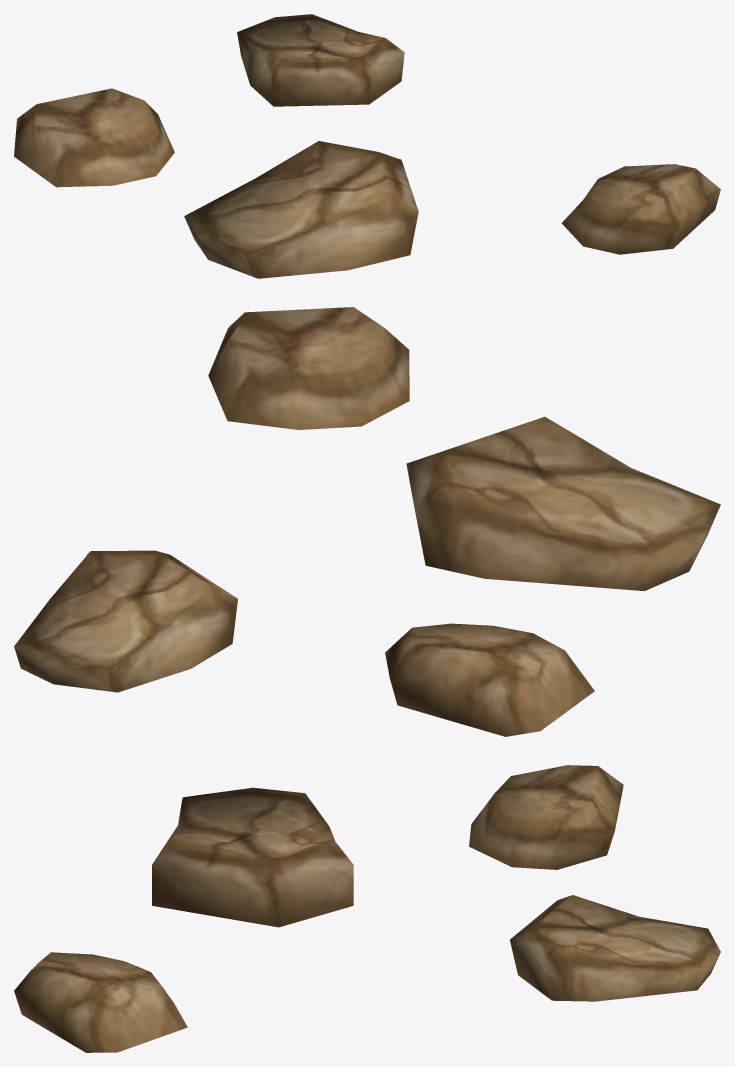
Rendered from desert small rocks.FBX.
The picture shows the model from 3 angles, top to bottom: view 1: azimuth 30°, elevation 25°; view 2: azimuth 150°, elevation 25°; view 3: azimuth 270°, elevation 25°; orthographic projection. The views are drawn at different scales.
Parts seen in each view (by area): view 1: desert small rocks; view 2: desert small rocks; view 3: desert small rocks.
Boxes of the visible parts, bbox=[...] form: desert small rocks: bbox=[14, 14, 720, 278]; desert small rocks: bbox=[14, 307, 720, 736]; desert small rocks: bbox=[14, 765, 720, 1052].
Size of the model in its own units: 0.8507 by 0.0992 by 1.
